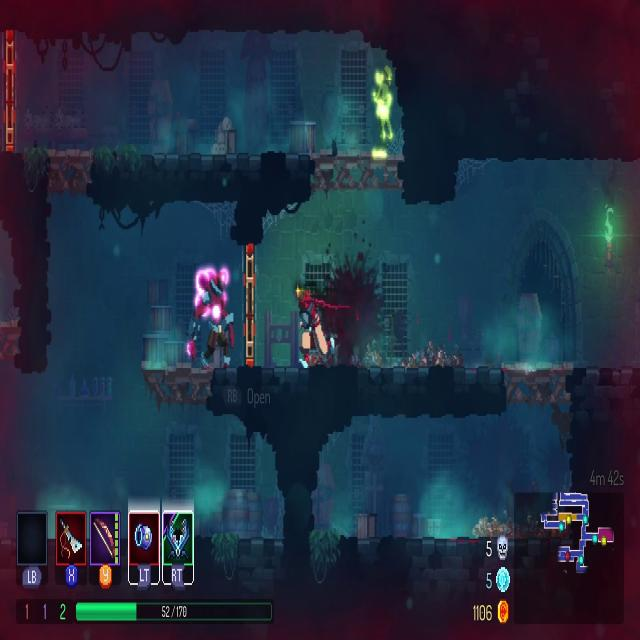agents: (295, 283, 336, 371)
enemy_green_puncher: (370, 66, 394, 164)
enemy_purple_big: (186, 264, 236, 373)
